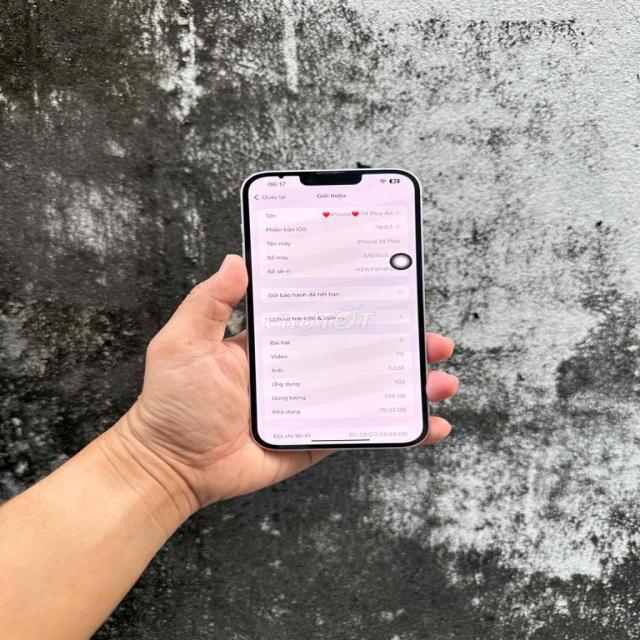gen_14: (229, 163, 446, 460)
screen_defect: (272, 168, 300, 190)
